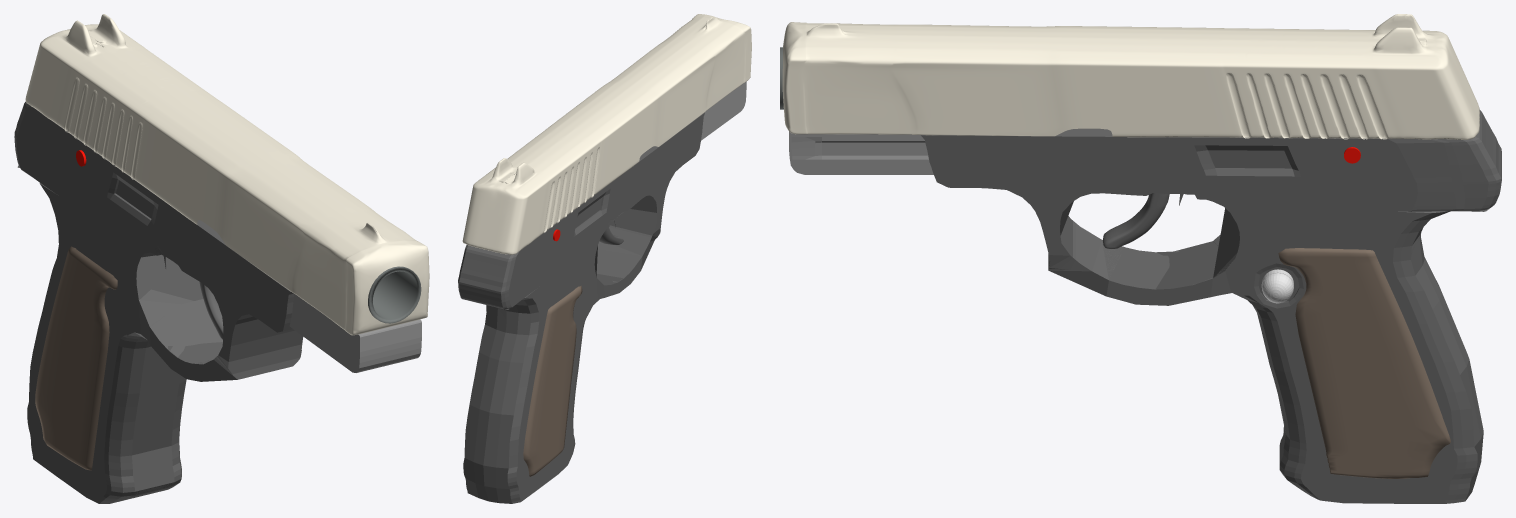
Rendered from PISTOL.fbx.
3 renders of one model, left to right at view 1: azimuth 30°, elevation 25°; view 2: azimuth 150°, elevation 25°; view 3: azimuth 270°, elevation 25°, orthographic. The views are drawn at different scales.
Parts seen in each view (by area): view 1: Cube.002, Cube, Cube.003, Cube.001, Cylinder, Cube.004; view 2: Cube.002, Cube, Cube.003, Cube.001; view 3: Cube.002, Cube, Cube.003, Cube.001, Cube.004, Sphere.
Part boxes in pixels (left/top/right/bottom): Cube.002: left=14, top=101, right=303, bottom=503; Cube: left=25, top=14, right=429, bottom=335; Cube.003: left=35, top=246, right=117, bottom=470; Cube.001: left=289, top=294, right=421, bottom=372; Cylinder: left=368, top=266, right=421, bottom=323; Cube.004: left=199, top=282, right=223, bottom=339; Cube.002: left=458, top=112, right=704, bottom=503; Cube: left=462, top=14, right=751, bottom=254; Cube.003: left=523, top=285, right=582, bottom=476; Cube.001: left=701, top=82, right=746, bottom=140; Cube.002: left=920, top=110, right=1501, bottom=503; Cube: left=782, top=14, right=1479, bottom=139; Cube.003: left=1278, top=248, right=1450, bottom=478; Cube.001: left=789, top=132, right=933, bottom=174; Cube.004: left=1103, top=193, right=1169, bottom=248; Sphere: left=1262, top=273, right=1293, bottom=303.
Size of the model in its own units: 74.83 by 342 by 481.
